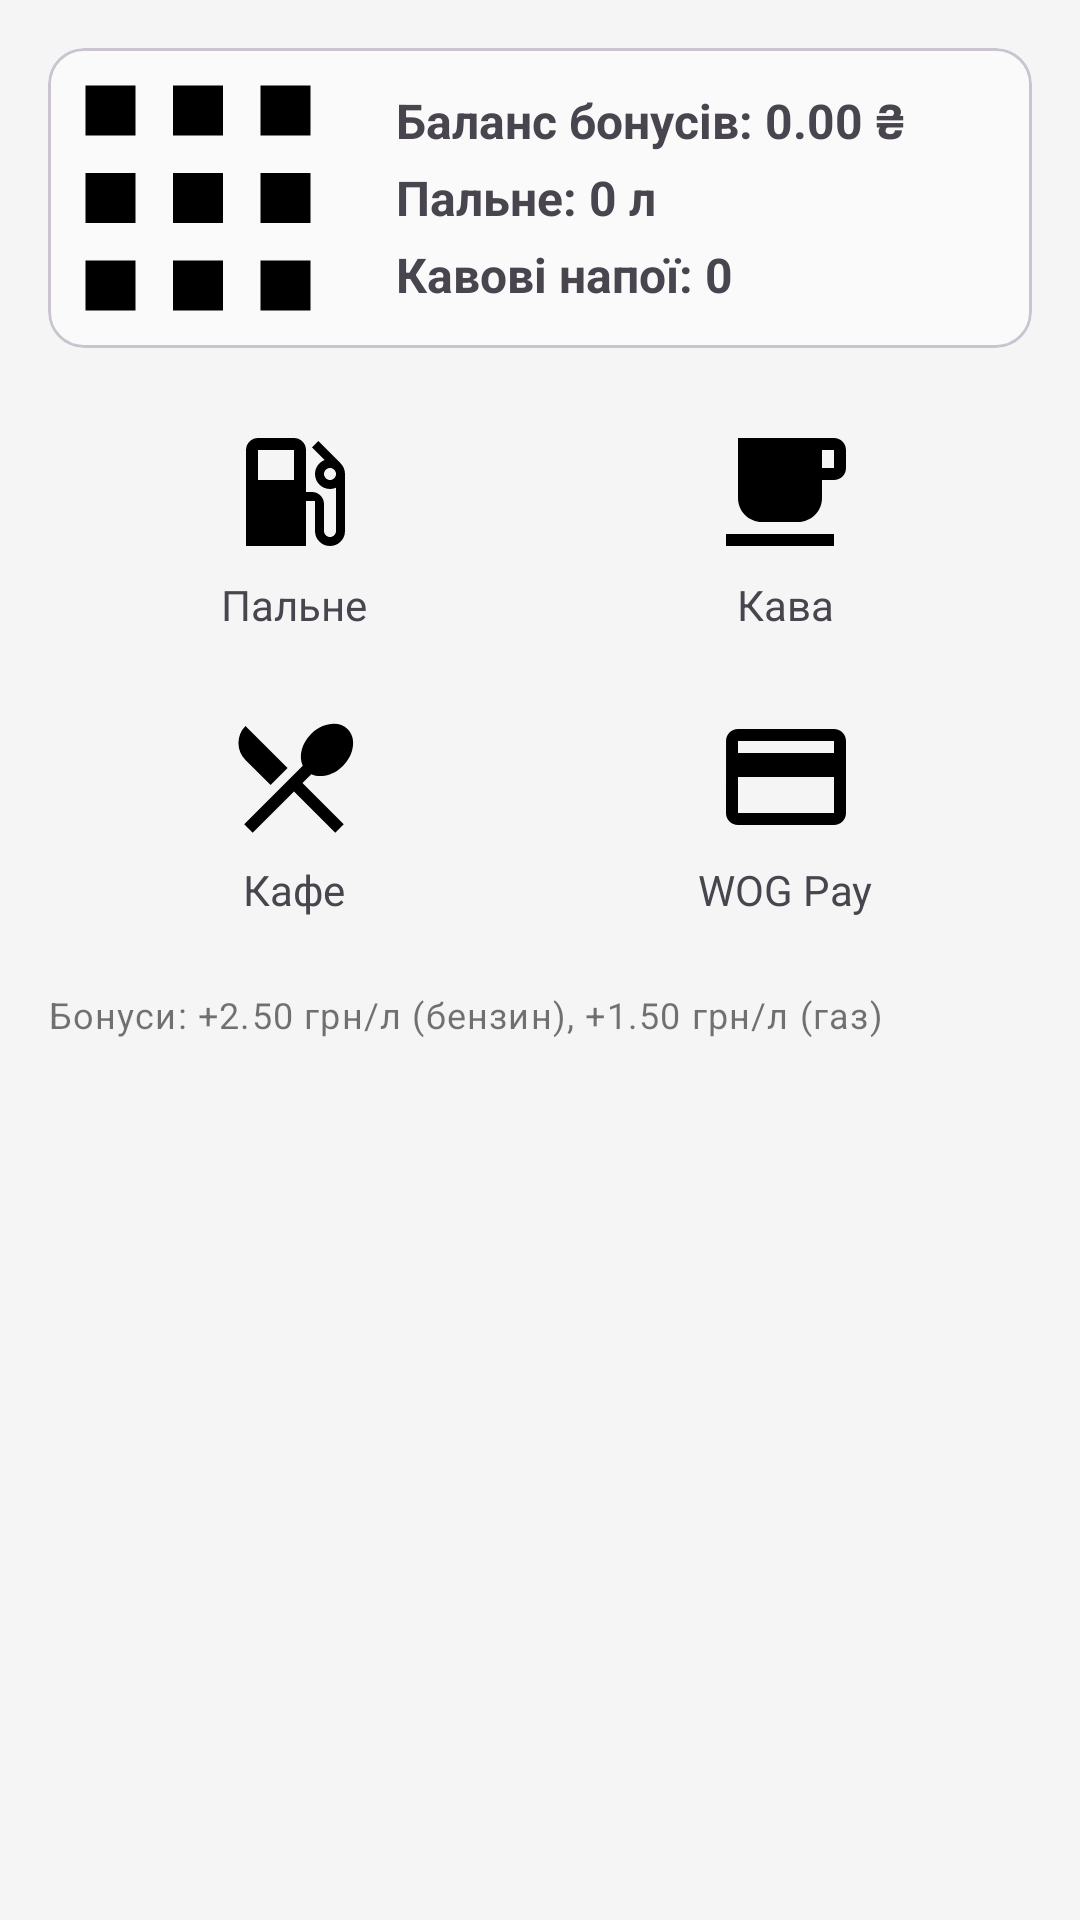

Where icons sit on this 1080w x 1920h app screen, as [x1,y1,x2,y2]:
QR-код PRIDE: [85,85,311,311]
